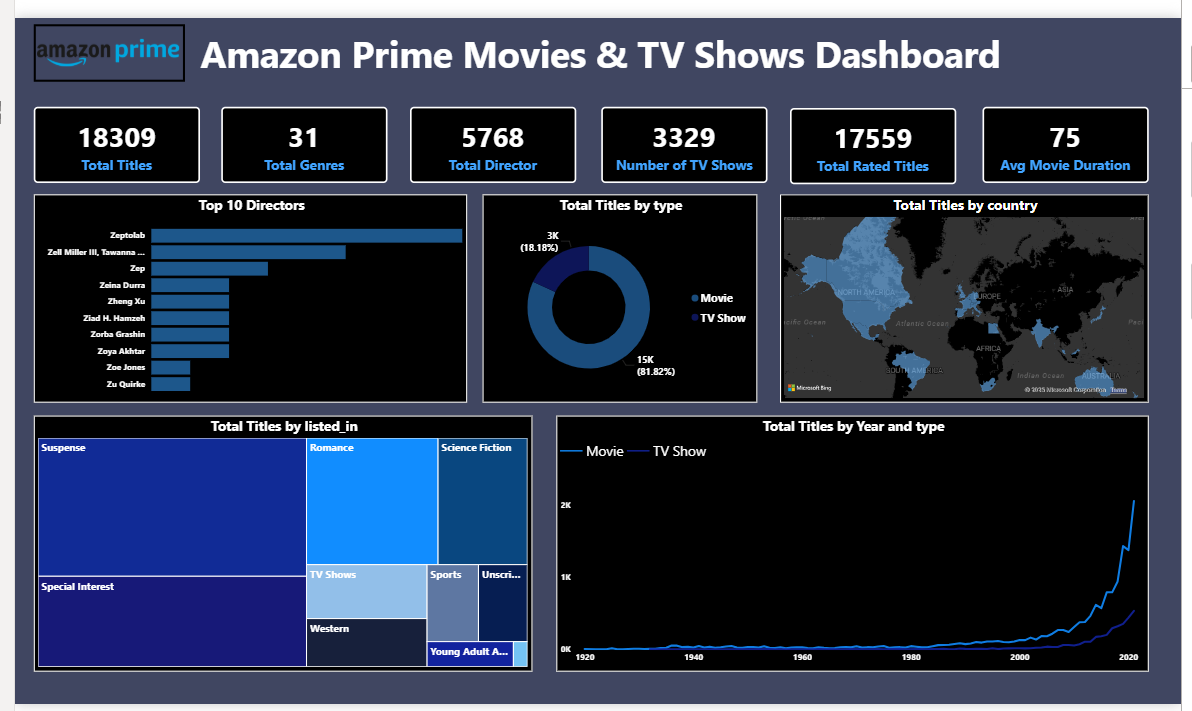

Layout of this report page (visuals, bound fields, positions):
{"tool":"powerbi","page":{"name":"Page 1","canvas":[1700,1000],"ordinal":0},"visuals":[{"type":"image","box":[27.3,20,216.9,60.1],"z":0},{"type":"textbox","box":[247.9,10.9,1211.9,82],"z":1000},{"type":"shape","box":[27.3,9.1,220.5,83.8],"z":2000},{"type":"card","title":"Total Titles","fields":{"Values":["amazon_prime_titles_cleaned.Total Titles"]},"box":[27.3,129.4,242.4,111.2],"z":3000},{"type":"card","title":"Total Titles","fields":{"Values":["amazon_prime_titles_cleaned.Total Genres"]},"box":[300.7,129.4,242.4,111.2],"z":4000},{"type":"card","title":"Total Titles","fields":{"Values":["amazon_prime_titles_cleaned.Number of TV Shows"]},"box":[854.7,129.4,242.4,111.2],"z":5000},{"type":"card","title":"Total Titles","fields":{"Values":["amazon_prime_titles_cleaned.Total Director"]},"box":[575.9,129.4,242.4,111.2],"z":6000},{"type":"card","title":"Total Titles","fields":{"Values":["amazon_prime_titles_cleaned.Total Rated Titles"]},"box":[1129.9,131.2,242.4,111.2],"z":7000},{"type":"clusteredBarChart","title":"Top 10 Directors","fields":{"Category":["amazon_prime_titles_cleaned.director"],"Y":["amazon_prime_titles_cleaned.Total Titles"]},"box":[27.3,257,632.4,304.4],"z":8000},{"type":"donutChart","fields":{"Category":["amazon_prime_titles_cleaned.type"],"Y":["amazon_prime_titles_cleaned.Total Titles"]},"box":[681.6,257,400.9,304.4],"z":9000},{"type":"lineChart","fields":{"Category":["amazon_prime_titles_cleaned.release_date.Variation.Date Hierarchy.Year"],"Y":["amazon_prime_titles_cleaned.Total Titles"],"Series":["amazon_prime_titles_cleaned.type"]},"box":[789.1,579.5,863.9,373.6],"z":10000},{"type":"treemap","fields":{"Group":["amazon_prime_titles_cleaned.listed_in"],"Values":["amazon_prime_titles_cleaned.Total Titles"]},"box":[27.3,579.5,727.2,373.6],"z":11000},{"type":"card","title":"Total Titles","fields":{"Values":["amazon_prime_titles_cleaned.Average Movie Duration"]},"box":[1410.6,129.4,242.4,111.2],"z":12000},{"type":"filledMap","title":"Total Titles by country","fields":{"Category":["amazon_prime_titles_cleaned.country"]},"box":[1115.4,257,537.6,304.4],"z":13000}]}

Visuals, with their boxes in screenshot pixels (x1, y1, x2, y2), scaled from the page's 1700x1000 canvas onto the 1192x711 screenshot:
image: box=[19, 14, 171, 57]
textbox: box=[174, 8, 1024, 66]
shape: box=[19, 6, 174, 66]
"Total Titles" card: box=[19, 92, 189, 171]
"Total Titles" card: box=[211, 92, 381, 171]
"Total Titles" card: box=[599, 92, 769, 171]
"Total Titles" card: box=[404, 92, 574, 171]
"Total Titles" card: box=[792, 93, 962, 172]
"Top 10 Directors" clusteredBarChart: box=[19, 183, 463, 399]
donutChart - amazon_prime_titles_cleaned.type x amazon_prime_titles_cleaned.Total Titles: box=[478, 183, 759, 399]
lineChart - amazon_prime_titles_cleaned.release_date.Variation.Date Hierarchy.Year x amazon_prime_titles_cleaned.Total Titles: box=[553, 412, 1159, 678]
treemap - amazon_prime_titles_cleaned.listed_in x amazon_prime_titles_cleaned.Total Titles: box=[19, 412, 529, 678]
"Total Titles" card: box=[989, 92, 1159, 171]
"Total Titles by country" filledMap: box=[782, 183, 1159, 399]
